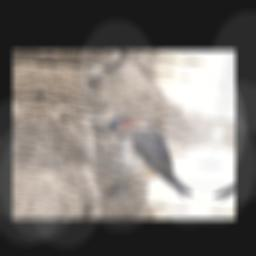Swallow: (92, 109, 213, 203)
